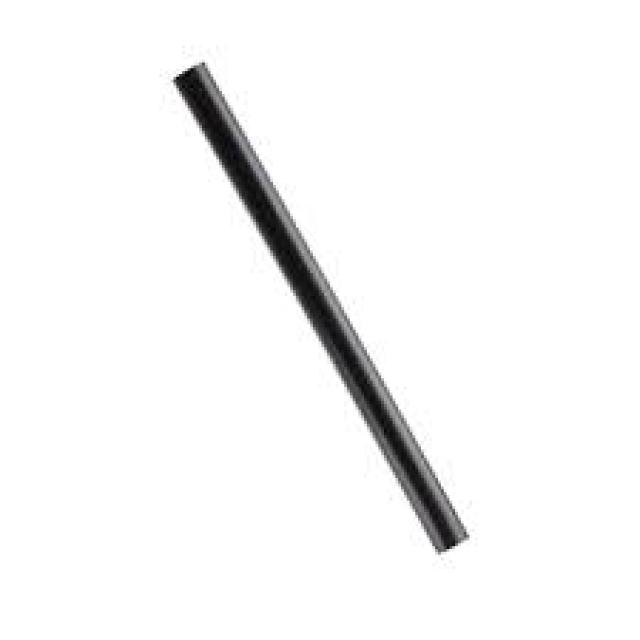straw: (175, 66, 468, 551)
